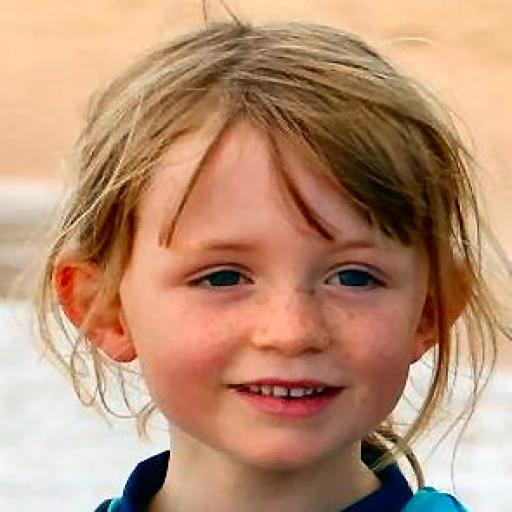Autism: (15, 14, 512, 489)
